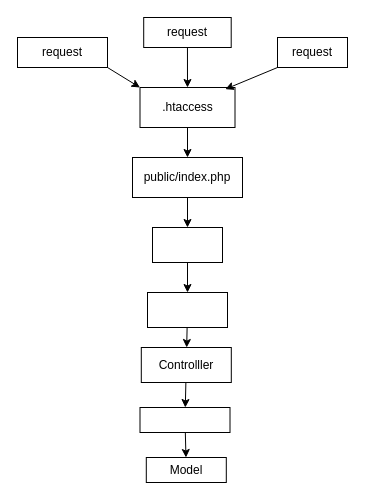
This 365x500 diagram has some shape labels left out. Here are the shapes that lost their labels. From the top down, the box of each, then its label:
(152, 226, 222, 262): Routes
(146, 292, 228, 328): Middleware
(139, 406, 230, 432): Services
